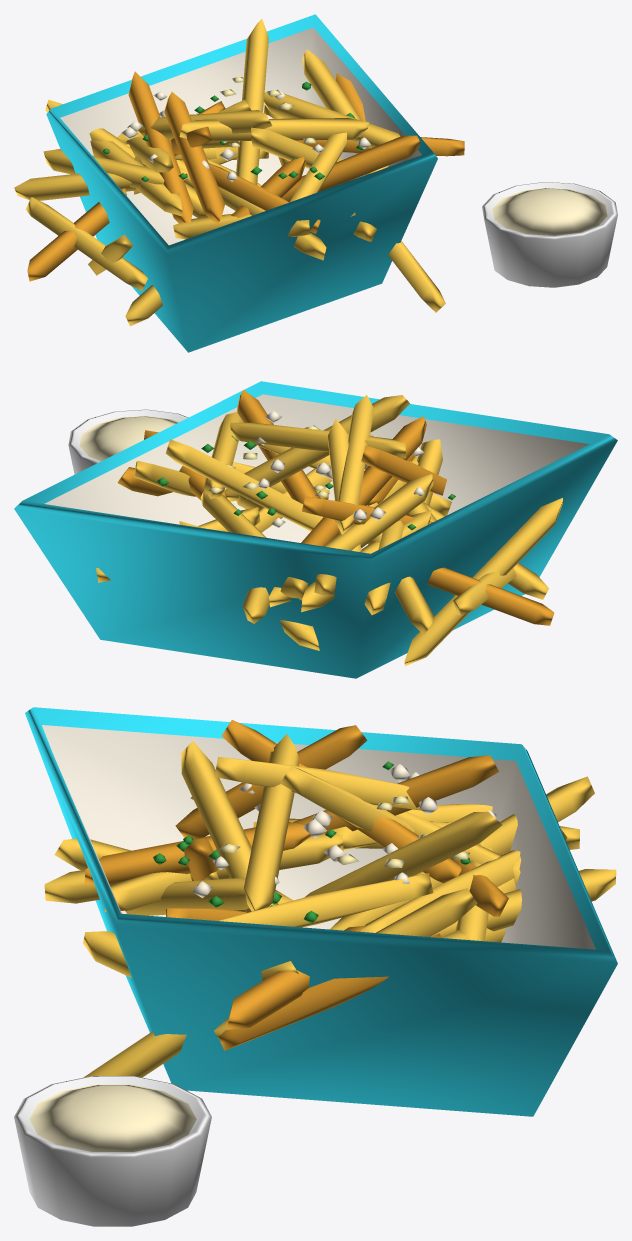
3 views of the same model, one above another, from view 1: azimuth 30°, elevation 25°; view 2: azimuth 150°, elevation 25°; view 3: azimuth 270°, elevation 25° (orthographic). The views are drawn at different scales.
Parts seen in each view (by area): view 1: fries, boat, boat_inner, cup, aioli, garlic, parsley; view 2: boat, fries, boat_inner, aioli, cup, garlic, parsley, parmesan; view 3: boat, fries, boat_inner, cup, aioli, garlic, parsley, parmesan.
Boxes of the visible parts, x1,y1,x2,y2 form: fries: (14, 19, 464, 326); boat: (46, 14, 437, 352); boat_inner: (60, 27, 421, 245); cup: (482, 182, 617, 287); aioli: (492, 188, 607, 235); garlic: (121, 91, 370, 181); parsley: (103, 81, 363, 181); boat: (14, 381, 617, 678); fries: (96, 390, 562, 665); boat_inner: (44, 394, 589, 549); aioli: (79, 416, 178, 461); cup: (68, 409, 188, 474); garlic: (256, 410, 424, 528); parsley: (157, 436, 455, 530); parmesan: (207, 425, 365, 497); boat: (25, 707, 617, 1116); fries: (44, 720, 616, 1077); boat_inner: (42, 725, 595, 949); cup: (14, 1076, 211, 1226); aioli: (29, 1084, 196, 1151); garlic: (190, 764, 496, 897); parsley: (153, 761, 470, 923); parmesan: (218, 796, 469, 867).
Bounding box in the file's own units: 0.1632 × 0.0595 × 0.1159.
